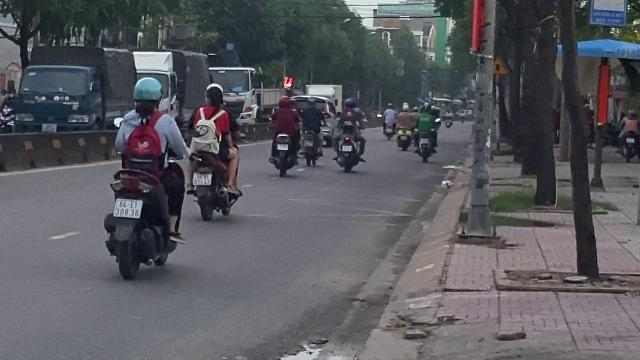helmet: (131, 76, 163, 112)
licenseplate: (115, 198, 142, 218), (193, 172, 210, 184)
motorcyclist: (101, 76, 187, 280), (186, 82, 244, 220)
nohelmet: (203, 86, 224, 109)
